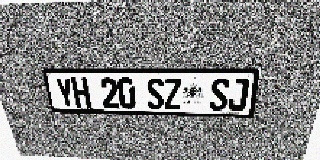0: (117, 78, 136, 109)
2: (100, 78, 119, 108)
H: (70, 77, 92, 108)
J: (227, 78, 250, 111)
S: (209, 78, 230, 111), (146, 78, 164, 109)
Y: (54, 77, 76, 107)
Z: (164, 78, 182, 110)
